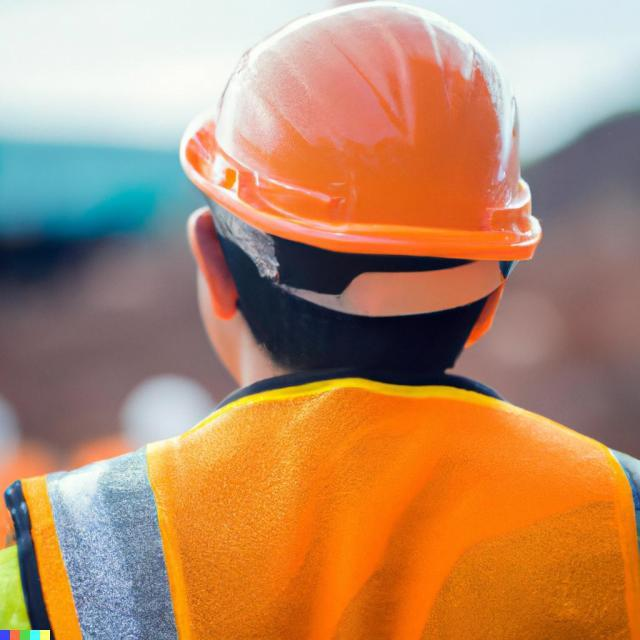reflective_jacket: (9, 379, 639, 634)
safety_helmet: (179, 2, 542, 267)
